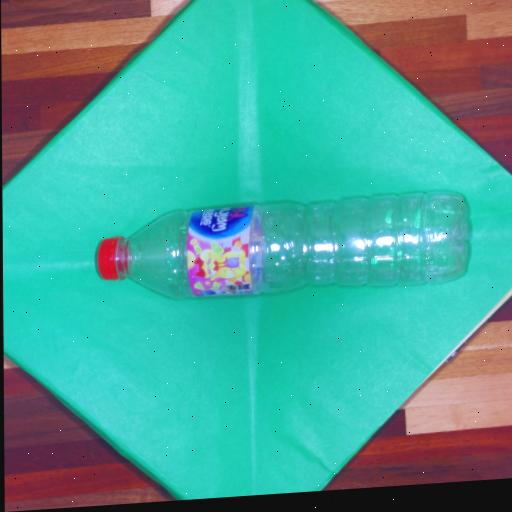bottle: (82, 177, 481, 315)
